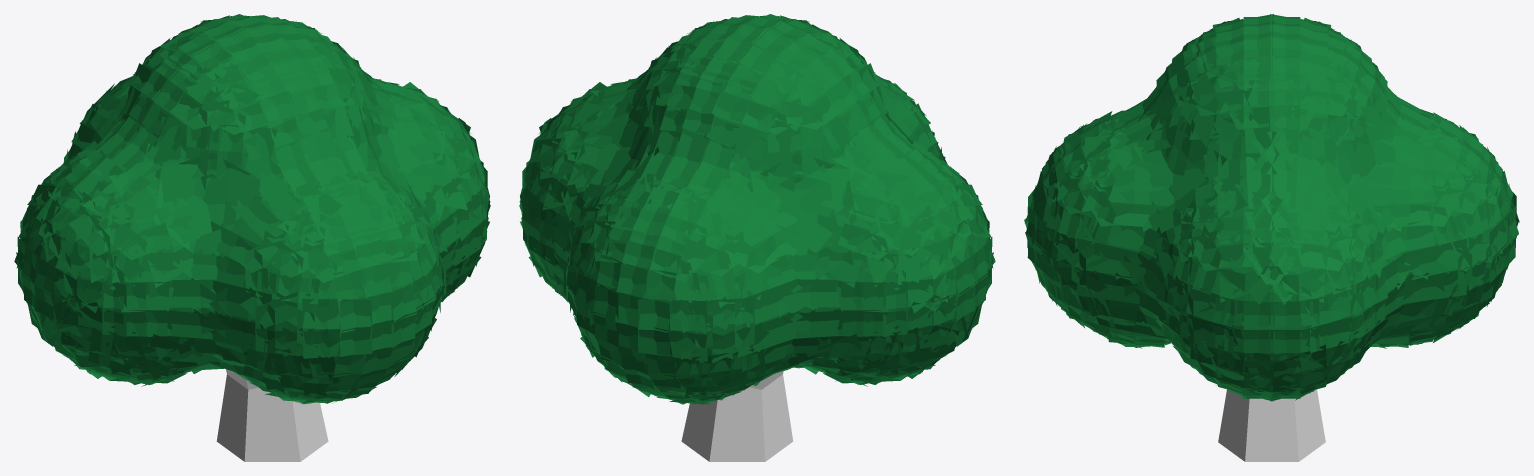
The model's file is oak.fbx.
The picture shows the model from 3 angles, left to right: view 1: azimuth 30°, elevation 25°; view 2: azimuth 150°, elevation 25°; view 3: azimuth 270°, elevation 25°; orthographic projection. The views are drawn at different scales.
Visible parts, largest first — view 1: Cylinder, Icosphere.048, Icosphere.035, Icosphere.247, Icosphere.169, Icosphere.165, Icosphere.188, Icosphere.021, Icosphere.278, Icosphere.186, Icosphere.216, Icosphere.158 (+111 smaller); view 2: Cylinder, Icosphere.962, Icosphere.525, Icosphere.507, Icosphere.556, Icosphere.590, Icosphere.1059, Icosphere.399, Icosphere.1060, Icosphere.658, Icosphere.551, Icosphere.377 (+100 smaller); view 3: Cylinder, Icosphere.137, Icosphere.948, Icosphere.307, Icosphere.631, Icosphere.741, Icosphere.919, Icosphere.707, Icosphere.923, Icosphere.735, Icosphere.734, Icosphere.789 (+88 smaller).
Part boxes in pixels (x1,y1,x2,y2): Cylinder: (216, 369, 328, 461); Icosphere.048: (302, 298, 372, 358); Icosphere.035: (211, 280, 272, 352); Icosphere.247: (266, 183, 343, 244); Icosphere.169: (82, 166, 160, 224); Icosphere.165: (112, 252, 181, 312); Icosphere.188: (157, 160, 197, 201); Icosphere.021: (167, 279, 215, 339); Icosphere.278: (287, 83, 353, 135); Icosphere.186: (166, 195, 211, 249); Icosphere.216: (333, 263, 393, 332); Icosphere.158: (68, 206, 138, 256); Cylinder: (681, 371, 793, 461); Icosphere.962: (733, 125, 794, 191); Icosphere.525: (897, 205, 954, 285); Icosphere.507: (637, 299, 707, 361); Icosphere.556: (799, 116, 849, 190); Icosphere.590: (683, 237, 741, 304); Icosphere.1059: (817, 214, 870, 287); Icosphere.399: (737, 279, 798, 357); Icosphere.1060: (706, 91, 776, 160); Icosphere.658: (638, 270, 706, 331); Icosphere.551: (787, 214, 833, 255); Icosphere.377: (795, 279, 841, 338); Cylinder: (1218, 389, 1325, 461); Icosphere.137: (1077, 238, 1141, 304); Icosphere.948: (1402, 238, 1466, 303); Icosphere.307: (1181, 70, 1218, 147); Icosphere.631: (1291, 71, 1356, 116); Icosphere.741: (1243, 275, 1300, 329); Icosphere.919: (1189, 88, 1252, 139); Icosphere.707: (1243, 302, 1300, 352); Icosphere.923: (1243, 105, 1300, 153); Icosphere.735: (1193, 243, 1244, 301); Icosphere.734: (1186, 262, 1246, 328); Icosphere.789: (1300, 228, 1355, 271).
Size of the model in its own units: 494 by 453 by 503.
